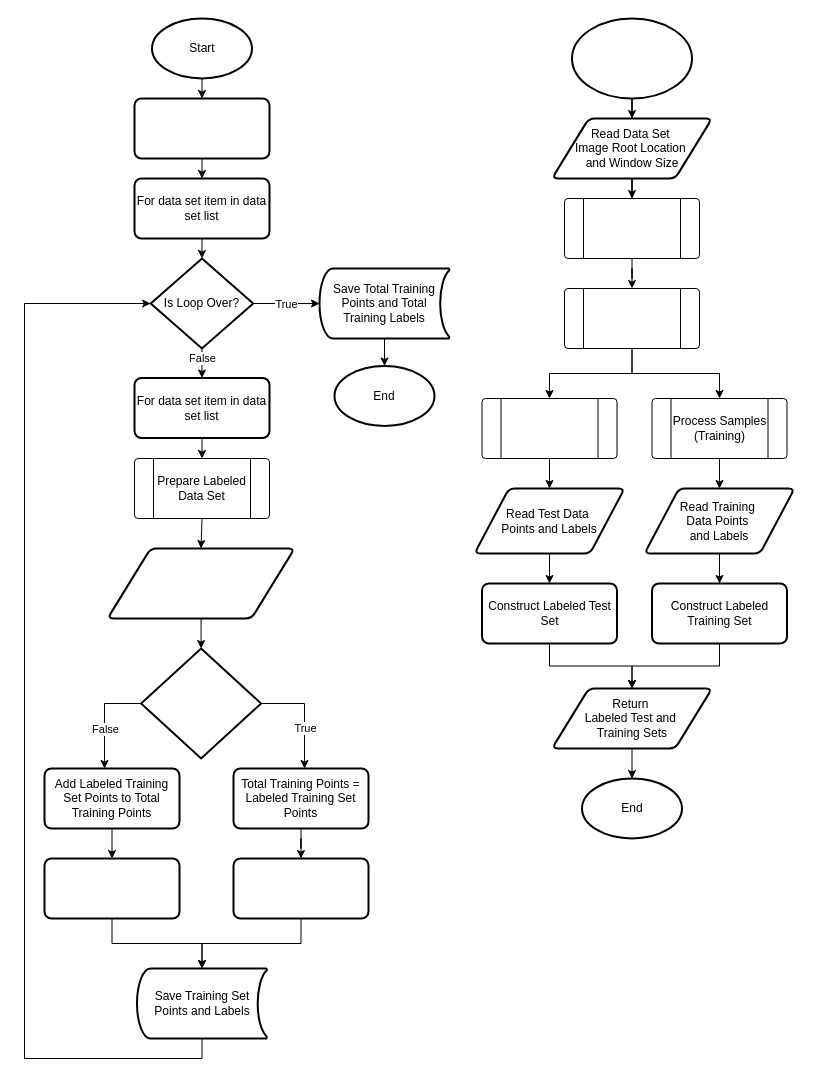
Some shapes in this 813 by 1084 pixel diagram are drawn without their labels. Each missing label, with the centre of its shape:
Add Labeled Training Set Labels to Total Training Labels: [111,888]
Get All Image File Names: [632,228]
Initialize Total Training Points, Total Training Labels: [201,128]
Is Total Training Points Empty?: [201,703]
Process Samples (Test): [549,428]
Read Labeled Training And Testing Sets: [200,583]
Split Images into Training and Test Groups: [632,318]
Start Prepare Labeled Data Set: [631,58]
Total Training Labels = Labeled Training Set Labels: [300,888]
